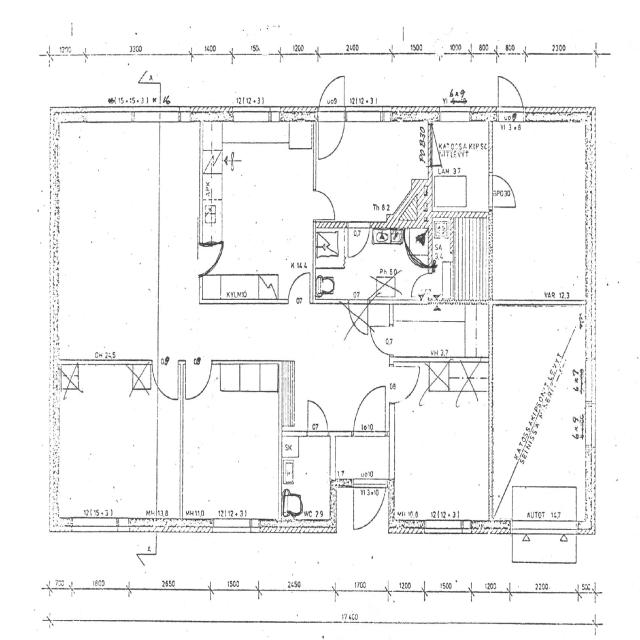door: (316, 74, 346, 152), (351, 382, 389, 434), (351, 482, 386, 532), (315, 114, 346, 163), (390, 359, 422, 406), (183, 360, 213, 403), (496, 72, 525, 116), (303, 395, 331, 436), (344, 221, 372, 261), (368, 313, 393, 357), (286, 270, 312, 310), (155, 363, 180, 404), (311, 186, 338, 223), (491, 170, 518, 206), (318, 76, 346, 110), (409, 270, 432, 299)
window: (70, 514, 119, 536), (424, 518, 466, 538), (346, 105, 385, 126), (212, 518, 254, 537), (231, 106, 273, 125), (439, 107, 472, 124)
zone: (57, 121, 160, 368), (56, 363, 158, 524), (183, 362, 281, 524), (391, 375, 492, 526), (492, 122, 587, 281), (209, 138, 309, 285), (315, 119, 422, 223), (56, 255, 158, 364), (158, 120, 201, 256), (431, 117, 492, 211), (427, 212, 486, 306), (280, 434, 334, 525), (390, 303, 471, 361), (508, 486, 585, 532), (333, 434, 392, 489), (351, 379, 388, 436), (313, 226, 344, 270), (197, 240, 224, 274)
